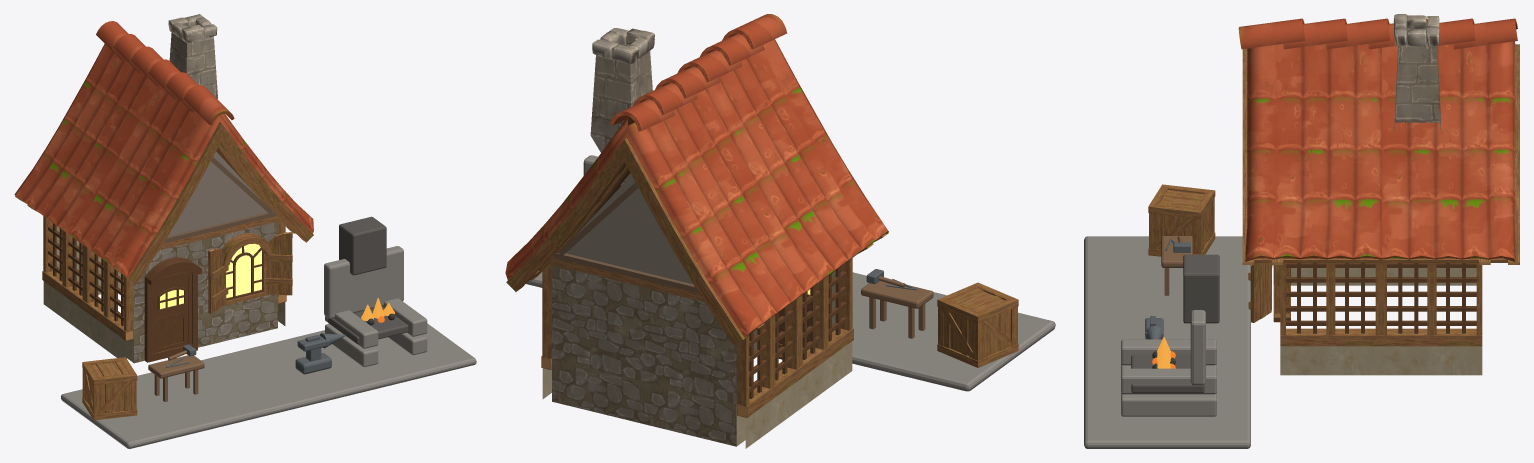
The model's file is blacksmith-r4-original-blender-web1024.glb.
3 views of the same model, side by side, from view 1: azimuth 30°, elevation 25°; view 2: azimuth 150°, elevation 25°; view 3: azimuth 270°, elevation 25° (orthographic). The views are drawn at different scales.
Visible parts, largest first — view 1: Roof_RoundTiles_4x4, Smith_ForgingYard_StoneApron, Wall_Plaster_WoodGrid, Wall_UnevenBrick_Window_Wide_Round, Smith_Forge_HeatHood_Back, Wall_Plaster_WoodGrid.001, Smith_FrontGable_CloseRoofWallGap, Door_1_Round, Prop_Crate, Prop_Chimney, Window_Wide_Round1, Wall_UnevenBrick_Door_Round (+11 smaller); view 2: Roof_RoundTiles_4x4, Wall_UnevenBrick_Straight.001, Wall_UnevenBrick_Straight, Smith_ForgingYard_StoneApron, Wall_Plaster_WoodGrid.001, Wall_Plaster_WoodGrid, Smith_RearGable_CloseRoofWallGap, Prop_Crate, Prop_Chimney, Wall_Plaster_WoodGrid.003, Smith_Toolbench_Oak, Smith_RearGable_RealOak_sill (+1 smaller); view 3: Roof_RoundTiles_4x4, Smith_ForgingYard_StoneApron, Wall_Plaster_WoodGrid.003, Wall_Plaster_WoodGrid.002, Prop_Chimney, Prop_Crate, Smith_Forge_ActualChimneyStack, Smith_Forge_ActualStoneCourse.001, Smith_Forge_ActualStoneCourse.003, Smith_Forge_ActualStoneCourse.002, Smith_Forge_RecessedCharcoalHearth, WindowShutters_Wide_Round_Open (+5 smaller).
Boxes of the visible parts, left/top/right/bottom form: Roof_RoundTiles_4x4: left=14, top=21, right=313, bottom=283; Smith_ForgingYard_StoneApron: left=61, top=323, right=476, bottom=448; Wall_Plaster_WoodGrid: left=84, top=246, right=133, bottom=362; Wall_UnevenBrick_Window_Wide_Round: left=206, top=216, right=279, bottom=345; Smith_Forge_HeatHood_Back: left=324, top=246, right=403, bottom=318; Wall_Plaster_WoodGrid.001: left=42, top=216, right=85, bottom=334; Smith_FrontGable_CloseRoofWallGap: left=168, top=151, right=266, bottom=236; Door_1_Round: left=152, top=270, right=192, bottom=359; Prop_Crate: left=82, top=357, right=137, bottom=420; Prop_Chimney: left=168, top=14, right=217, bottom=98; Window_Wide_Round1: left=221, top=233, right=273, bottom=305; Wall_UnevenBrick_Door_Round: left=134, top=233, right=207, bottom=363; Roof_RoundTiles_4x4: left=505, top=14, right=888, bottom=344; Wall_UnevenBrick_Straight.001: left=549, top=258, right=644, bottom=423; Wall_UnevenBrick_Straight: left=641, top=279, right=736, bottom=446; Smith_ForgingYard_StoneApron: left=526, top=272, right=1055, bottom=391; Wall_Plaster_WoodGrid.001: left=736, top=297, right=800, bottom=448; Wall_Plaster_WoodGrid: left=799, top=258, right=853, bottom=409; Smith_RearGable_CloseRoofWallGap: left=566, top=175, right=692, bottom=284; Prop_Crate: left=937, top=282, right=1018, bottom=367; Prop_Chimney: left=590, top=28, right=654, bottom=185; Wall_Plaster_WoodGrid.003: left=541, top=263, right=551, bottom=398; Smith_Toolbench_Oak: left=861, top=281, right=933, bottom=308; Smith_RearGable_RealOak_sill: left=554, top=253, right=698, bottom=293; Roof_RoundTiles_4x4: left=1238, top=18, right=1519, bottom=264; Smith_ForgingYard_StoneApron: left=1084, top=236, right=1250, bottom=448; Wall_Plaster_WoodGrid.003: left=1381, top=263, right=1482, bottom=375; Wall_Plaster_WoodGrid.002: left=1280, top=263, right=1381, bottom=375; Prop_Chimney: left=1393, top=14, right=1441, bottom=133; Prop_Crate: left=1148, top=184, right=1215, bottom=256; Smith_Forge_ActualChimneyStack: left=1183, top=254, right=1219, bottom=323; Smith_Forge_ActualStoneCourse.001: left=1121, top=393, right=1216, bottom=416; Smith_Forge_ActualStoneCourse.003: left=1121, top=368, right=1216, bottom=394; Smith_Forge_ActualStoneCourse.002: left=1121, top=339, right=1216, bottom=365; Smith_Forge_RecessedCharcoalHearth: left=1131, top=354, right=1204, bottom=393; WindowShutters_Wide_Round_Open: left=1248, top=263, right=1272, bottom=322.
Size of the model in its own units: 9.76 by 7.42 by 8.62.
40 materials, 29 textured.
